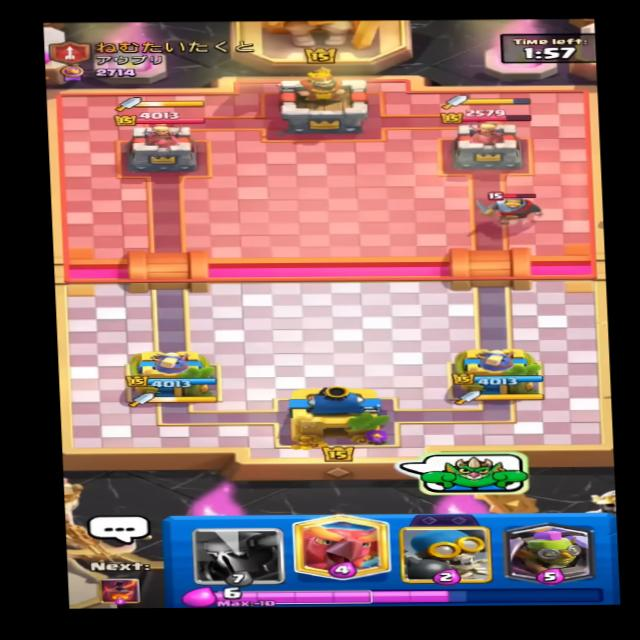Knight: (474, 183, 546, 223)
